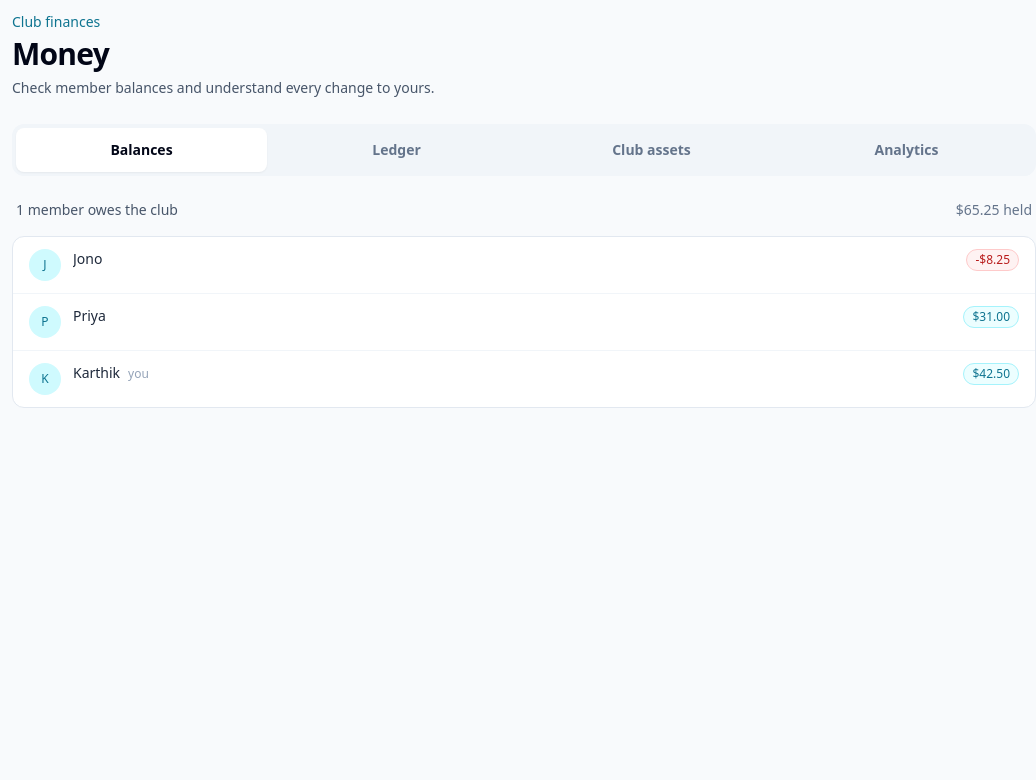
it: Money — club assets › shows assets and audit dates to a member but hides admin forms
The image size is (1036, 780).
Click the tab "Club assets" at x=652, y=150, box [526,128,777,172]
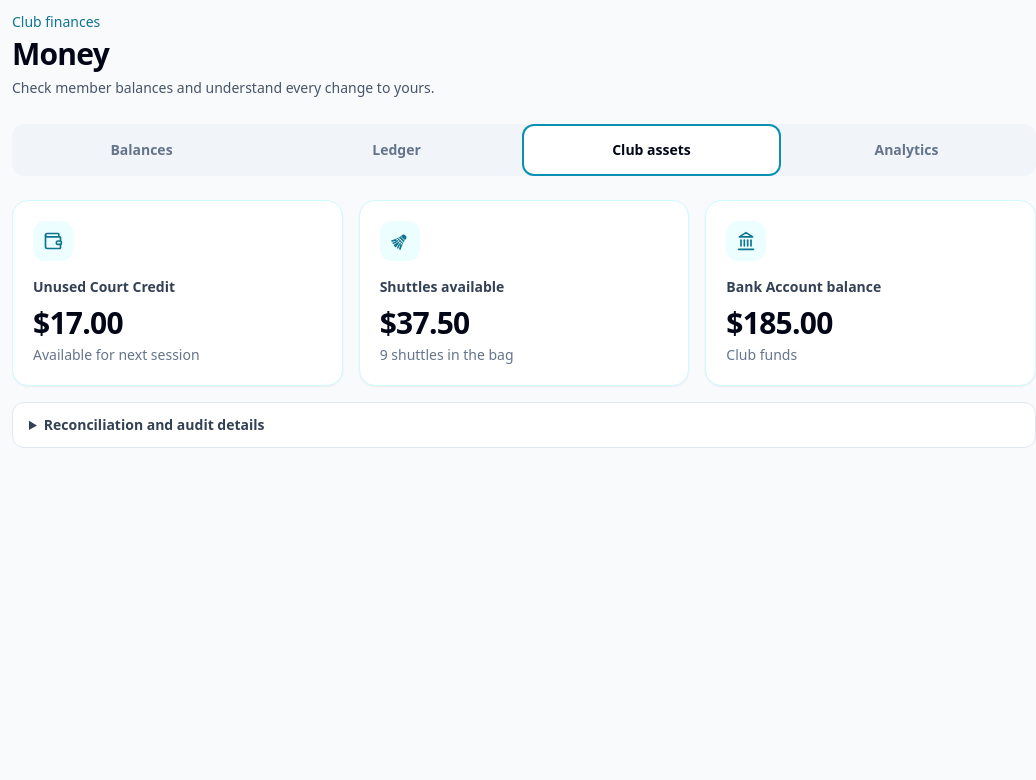
Now the text "$185.00" is shown, box [726,302,833,343]
Click the heading "Reconciliation and audit details" at x=154, y=424, box [44,415,264,434]
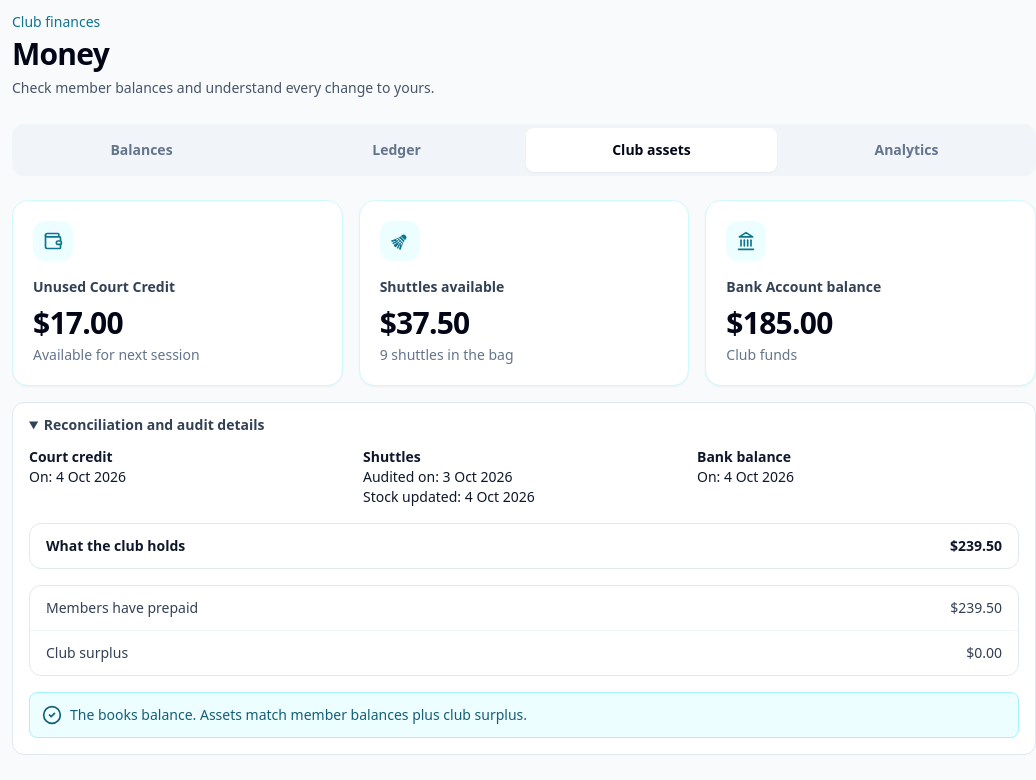
Now the text "Audited on: 3 Oct 2026" is shown, box [363,467,513,486]
Now the text "Stock updated: 4 Oct 2026" is shown, box [363,487,535,506]
Now the text "On: 4 Oct 2026" is shown 2 times, box [29,467,126,486]; [697,467,794,486]
